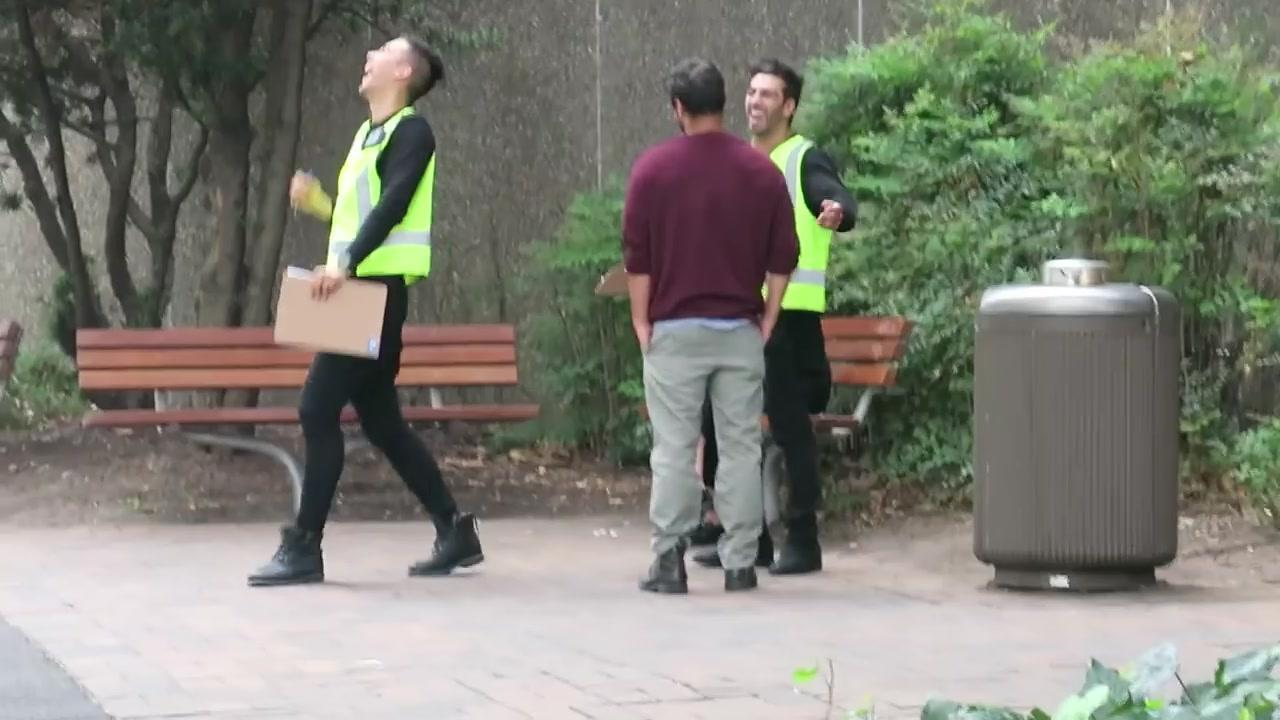vest: (328, 106, 436, 286), (759, 124, 833, 314)
